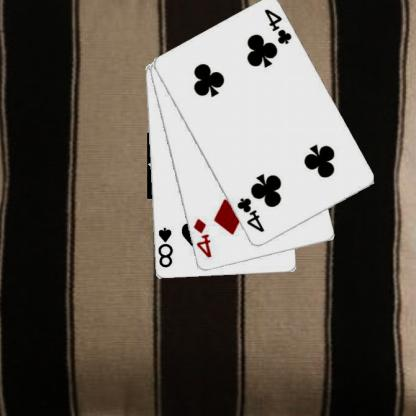4C: (263, 7, 295, 46), (236, 196, 267, 234)
4D: (193, 216, 214, 260)
8S: (157, 225, 176, 269)
